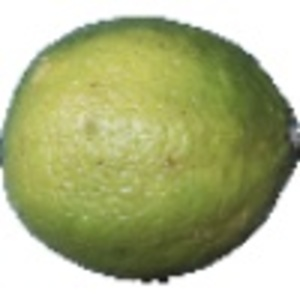limão: (1, 15, 300, 284)
